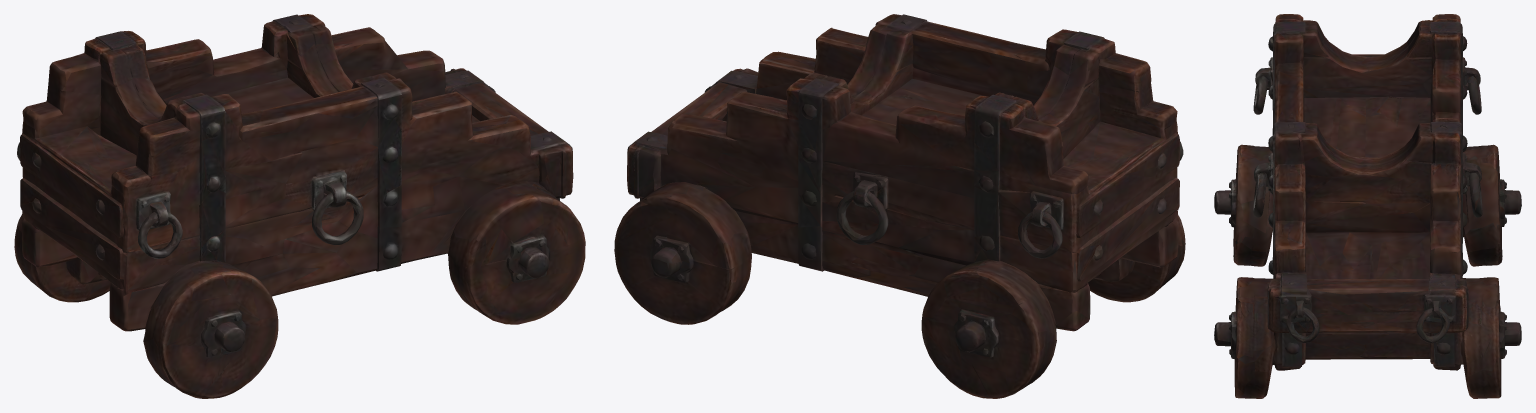
Rendered from pirat-lafette.glb.
3 renders of one model, left to right at view 1: azimuth 30°, elevation 25°; view 2: azimuth 150°, elevation 25°; view 3: azimuth 270°, elevation 25°, orthographic. The views are drawn at different scales.
Visible parts, largest first — view 1: Mesh_0; view 2: Mesh_0; view 3: Mesh_0.
Boxes of the visible parts, x1,y1,x2,y2 form: Mesh_0: (14,14,585,398); Mesh_0: (614,14,1185,398); Mesh_0: (1214,14,1521,398).
Bounding box in the file's own units: 1.9 × 1.04 × 1.21.
Materials: 1 (1 with a texture image).
